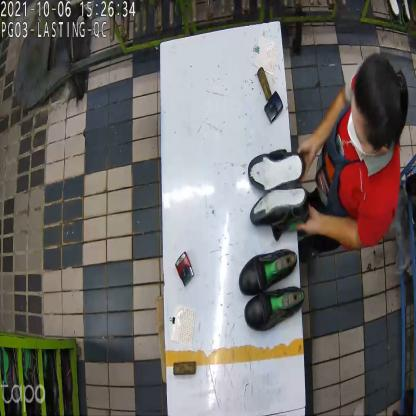shoes: (239, 252, 302, 324), (247, 153, 313, 221)
stamp: (174, 249, 195, 289), (263, 87, 284, 124)
